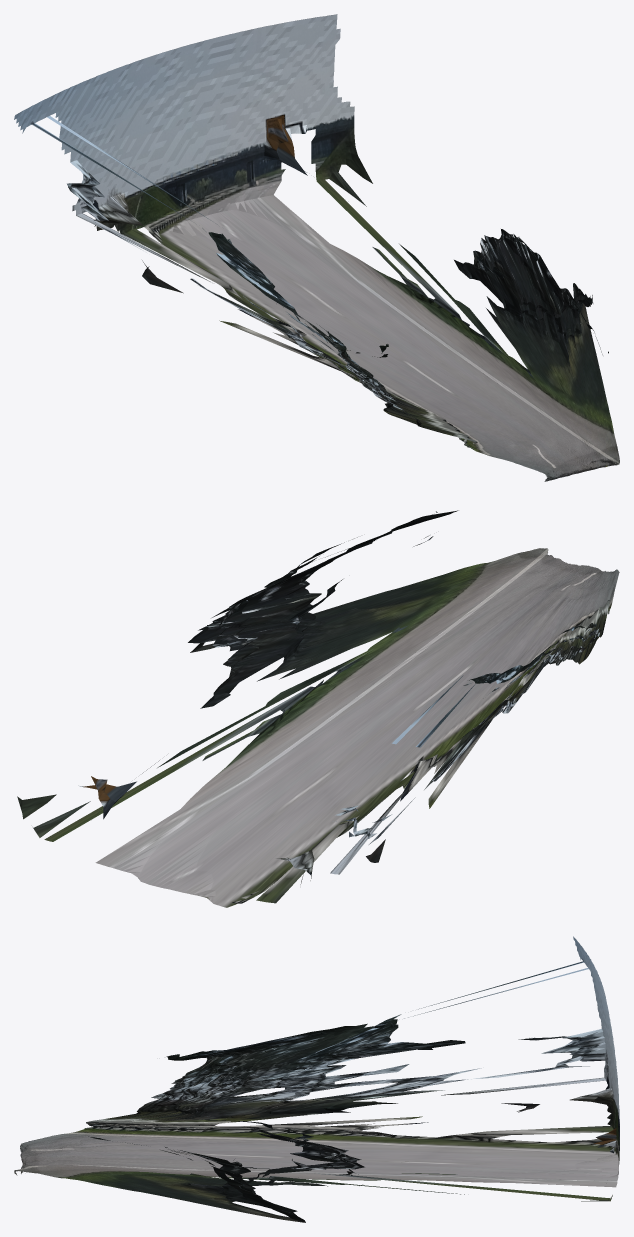
3 views of the same model, one above another, from view 1: azimuth 30°, elevation 25°; view 2: azimuth 150°, elevation 25°; view 3: azimuth 270°, elevation 25° (orthographic). The views are drawn at different scales.
Parts seen in each view (by area): view 1: defaultobject; view 2: defaultobject; view 3: defaultobject.
Part boxes in pixels (bbox=[...]): defaultobject: bbox=[14, 14, 619, 481]; defaultobject: bbox=[17, 510, 619, 907]; defaultobject: bbox=[14, 936, 619, 1222].
Bounding box in the file's own units: 28.09 × 12.46 × 44.68.
Materials: 1 (1 with a texture image).
